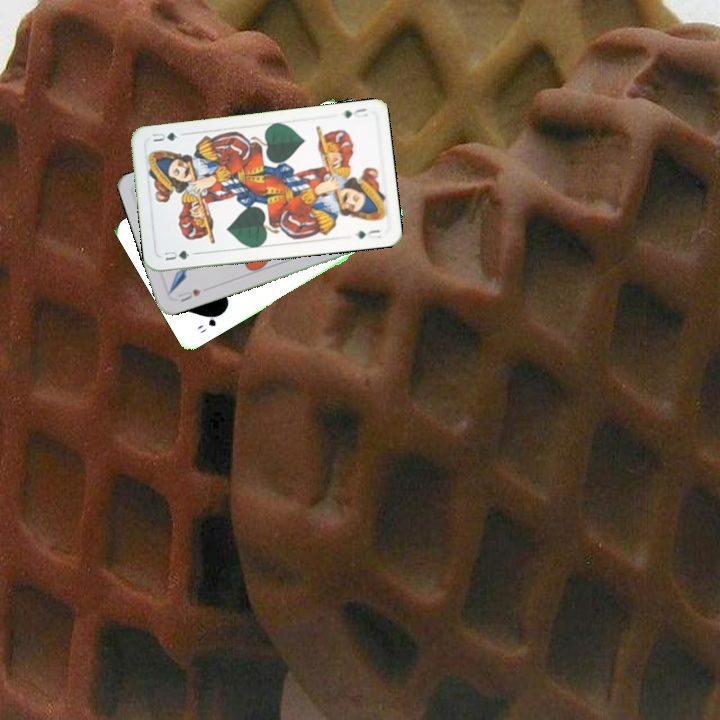GO: (193, 308, 226, 336)
GU: (159, 246, 192, 263), (339, 104, 370, 121)
HU: (174, 285, 204, 304)
